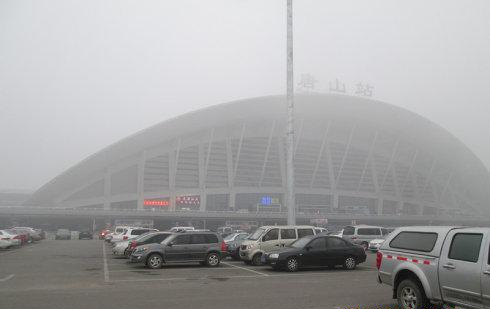car: (375, 222, 489, 309), (132, 229, 228, 269), (265, 233, 368, 270), (238, 223, 324, 266), (125, 232, 215, 269), (112, 232, 187, 259), (340, 223, 393, 252), (215, 230, 277, 254), (110, 228, 165, 252), (5, 226, 42, 244), (1, 226, 30, 248), (1, 229, 22, 250), (98, 227, 114, 241), (54, 228, 72, 240), (79, 229, 93, 239)
